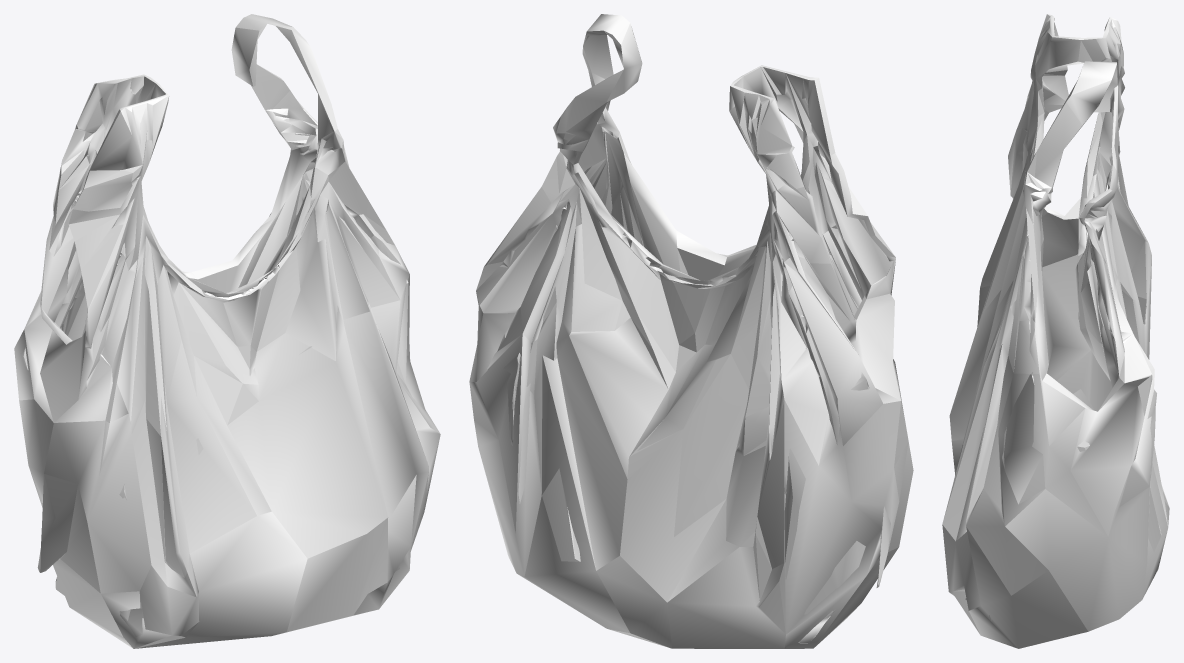
Rendered from trash-bag.glb.
The picture shows the model from 3 angles, left to right: view 1: azimuth 30°, elevation 25°; view 2: azimuth 150°, elevation 25°; view 3: azimuth 270°, elevation 25°; orthographic projection. The views are drawn at different scales.
Size of the model in its own units: 1.3 by 1.89 by 0.7064.
Materials: 1 (1 with a texture image).
